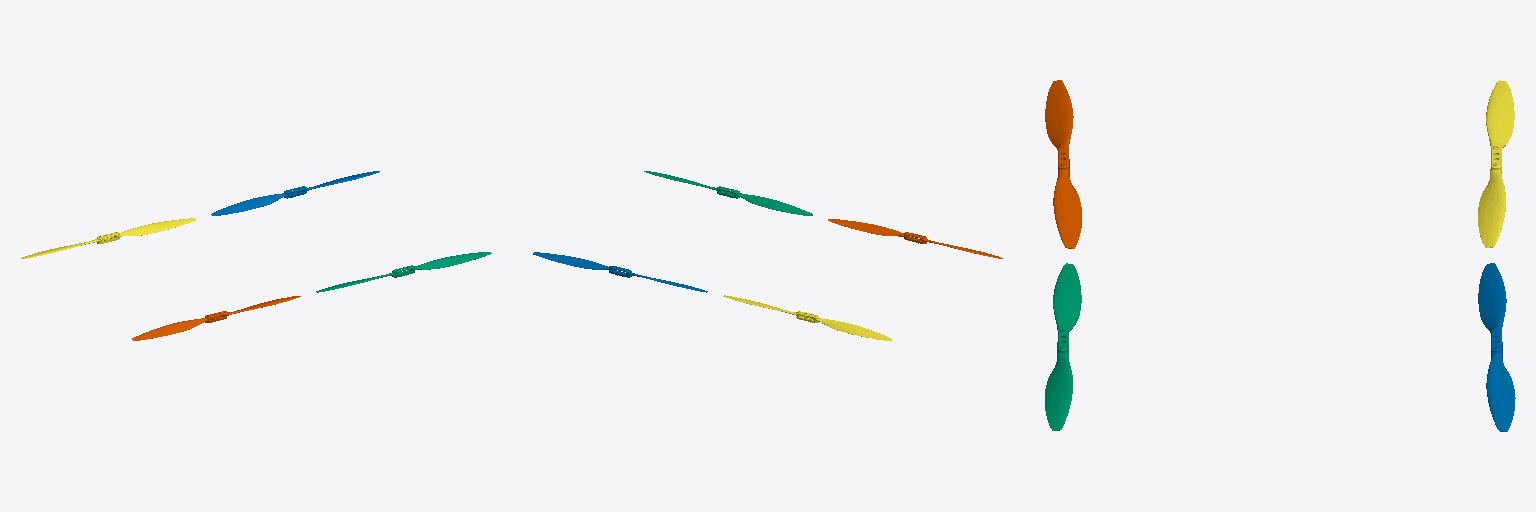
URDF robot description (p600):
<?xml version="1.0" ?>
<robot name="p600">
  <joint name="p600__imu_joint" type="fixed">
    <parent link="p600__base_link"/>
    <child link="p600__imu_link"/>
    <origin xyz="0 0 0.205" rpy="0 0 0"/>
    <axis xyz="1 0 0"/>
    <limit lower="0.0" upper="0.0" effort="0.0" velocity="0.0"/>
  </joint>
  <joint name="p600__rotor_0_joint" type="continuous">
    <parent link="p600__base_link"/>
    <child link="p600__rotor_0"/>
    <origin xyz="0.21213 -0.21213  0.243" rpy="0 0 0"/>
    <axis xyz="0 0 1"/>
  </joint>
  <joint name="p600__rotor_1_joint" type="continuous">
    <parent link="p600__base_link"/>
    <child link="p600__rotor_1"/>
    <origin xyz="-0.21213  0.21213  0.243" rpy="0 0 0"/>
    <axis xyz="0 0 1"/>
  </joint>
  <joint name="p600__rotor_2_joint" type="continuous">
    <parent link="p600__base_link"/>
    <child link="p600__rotor_2"/>
    <origin xyz="0.21213 0.21213 0.243" rpy="0 0 0"/>
    <axis xyz="0 0 1"/>
  </joint>
  <joint name="p600__rotor_3_joint" type="continuous">
    <parent link="p600__base_link"/>
    <child link="p600__rotor_3"/>
    <origin xyz="-0.21213 -0.21213  0.243" rpy="0 0 0"/>
    <axis xyz="0 0 1"/>
  </joint>
  <link name="p600__base_link">
    <inertial>
      <mass value="3.0"/>
      <origin xyz="-0.015 0 0.175" rpy="0 0 0"/>
      <inertia ixx="0.05487" ixy="0" ixz="0" iyy="0.05487" iyz="0" izz="0.1027"/>
    </inertial>
    
    <visual name="p600__base_link_inertia_visual">
      <origin xyz="0 0 0" rpy="0 0 0"/>
      <geometry>
        <mesh filename="meshes/p600_lq.stl" scale="1 1 1"/>
      </geometry>
    </visual>
  </link>
  <link name="p600__imu_link">
    <inertial>
      <mass value="0.015"/>
      <origin xyz="0 0 0" rpy="0 0 0"/>
      <inertia ixx="1e-05" ixy="0" ixz="0" iyy="1e-05" iyz="0" izz="1e-05"/>
    </inertial>
  </link>
  <link name="p600__rotor_0">
    <inertial>
      <mass value="0.005"/>
      <origin xyz="0 0 0" rpy="0 0 0"/>
      <inertia ixx="9.75e-07" ixy="0" ixz="0" iyy="0.000273104" iyz="0" izz="0.000274004"/>
    </inertial>
    
    <visual name="p600__rotor_0_visual">
      <origin xyz="0 0 0" rpy="0 0 0"/>
      <geometry>
        <mesh filename="meshes/p600_ccw_lq.stl" scale="1 1 1"/>
      </geometry>
    </visual>
  </link>
  <link name="p600__rotor_1">
    <inertial>
      <mass value="0.005"/>
      <origin xyz="0 0 0" rpy="0 0 0"/>
      <inertia ixx="9.75e-07" ixy="0" ixz="0" iyy="0.000273104" iyz="0" izz="0.000274004"/>
    </inertial>
    
    <visual name="p600__rotor_1_visual">
      <origin xyz="0 0 0" rpy="0 0 0"/>
      <geometry>
        <mesh filename="meshes/p600_ccw_lq.stl" scale="1 1 1"/>
      </geometry>
    </visual>
  </link>
  <link name="p600__rotor_2">
    <inertial>
      <mass value="0.005"/>
      <origin xyz="0 0 0" rpy="0 0 0"/>
      <inertia ixx="9.75e-07" ixy="0" ixz="0" iyy="0.000273104" iyz="0" izz="0.000274004"/>
    </inertial>
    
    <visual name="p600__rotor_2_visual">
      <origin xyz="0 0 0" rpy="0 0 0"/>
      <geometry>
        <mesh filename="meshes/p600_cw_lq.stl" scale="1 1 1"/>
      </geometry>
    </visual>
  </link>
  <link name="p600__rotor_3">
    <inertial>
      <mass value="0.005"/>
      <origin xyz="0 0 0" rpy="0 0 0"/>
      <inertia ixx="9.75e-07" ixy="0" ixz="0" iyy="0.000273104" iyz="0" izz="0.000274004"/>
    </inertial>
    
    <visual name="p600__rotor_3_visual">
      <origin xyz="0 0 0" rpy="0 0 0"/>
      <geometry>
        <mesh filename="meshes/p600_cw_lq.stl" scale="1 1 1"/>
      </geometry>
    </visual>
  </link>
</robot>

--- What the picture shows (computed from the rendered views, not written in the file) ---
Views: 3 orthographic renders of the robot side by side, from view 1: azimuth 30°, elevation 25°; view 2: azimuth 150°, elevation 25°; view 3: azimuth 270°, elevation 25°.
Model p600 with 6 links and 5 joints (4 continuous, 1 fixed), rooted at p600__base_link, posed all joints at 0.
Visible links, largest first — view 1: p600__rotor_2, p600__rotor_3, p600__rotor_0, p600__rotor_1; view 2: p600__rotor_0, p600__rotor_1, p600__rotor_2, p600__rotor_3; view 3: p600__rotor_3, p600__rotor_2, p600__rotor_0, p600__rotor_1.
Boxes of the visible links, x1,y1,x2,y2 form: p600__rotor_2: (211,171,379,215); p600__rotor_3: (132,296,300,340); p600__rotor_0: (316,252,491,292); p600__rotor_1: (21,218,195,258); p600__rotor_0: (644,171,812,215); p600__rotor_1: (723,295,891,340); p600__rotor_2: (533,252,707,292); p600__rotor_3: (828,219,1002,258); p600__rotor_3: (1045,80,1081,248); p600__rotor_2: (1478,263,1515,431); p600__rotor_0: (1045,263,1081,430); p600__rotor_1: (1478,80,1514,247).
Size in the robot's own frame: 0.8123 by 0.4615 by 0.0176 metres.
Meshes: 3 distinct files referenced, 4 mesh visuals loaded (2 binary STL); not drawn: 1 (reference not matched to a file when rendering).